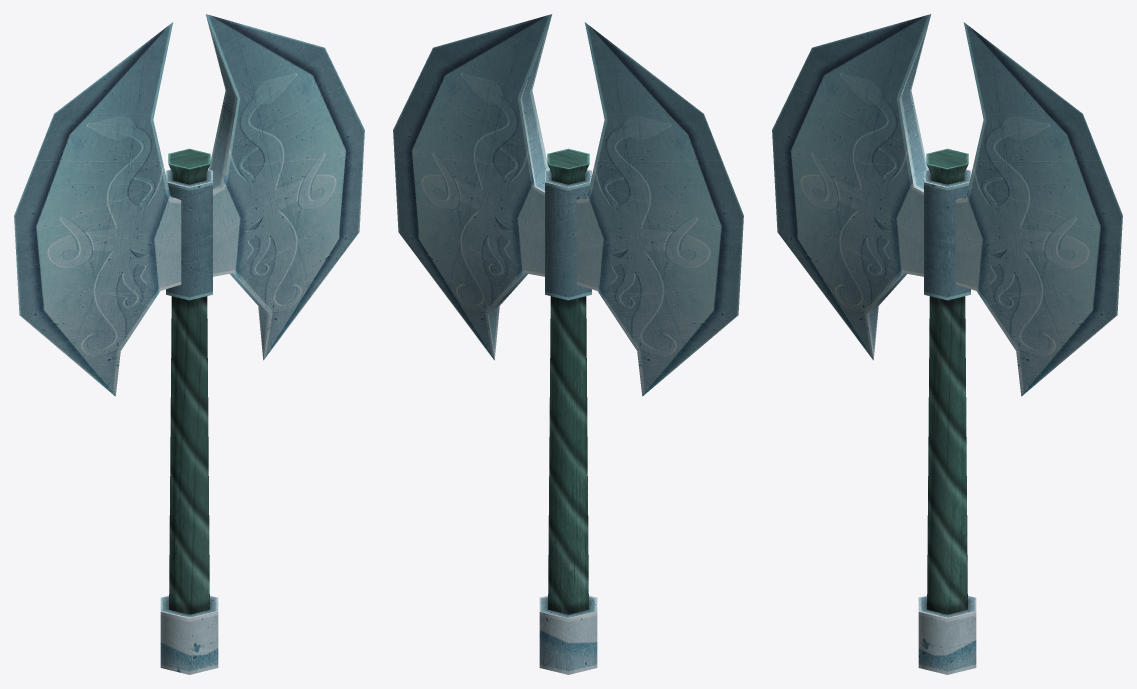
File: axe05_regular.FBX
The picture shows the model from 3 angles, left to right: view 1: azimuth 30°, elevation 25°; view 2: azimuth 150°, elevation 25°; view 3: azimuth 330°, elevation 25°; orthographic projection.
Visible parts, largest first — view 1: axe05; view 2: axe05; view 3: axe05.
Part boxes in pixels (box(x1,y1,x2,y2)): axe05: box(14, 14, 364, 674); axe05: box(393, 14, 743, 674); axe05: box(772, 14, 1122, 674).
Bounding box in the file's own units: 0.8831 × 1.55 × 0.126.
